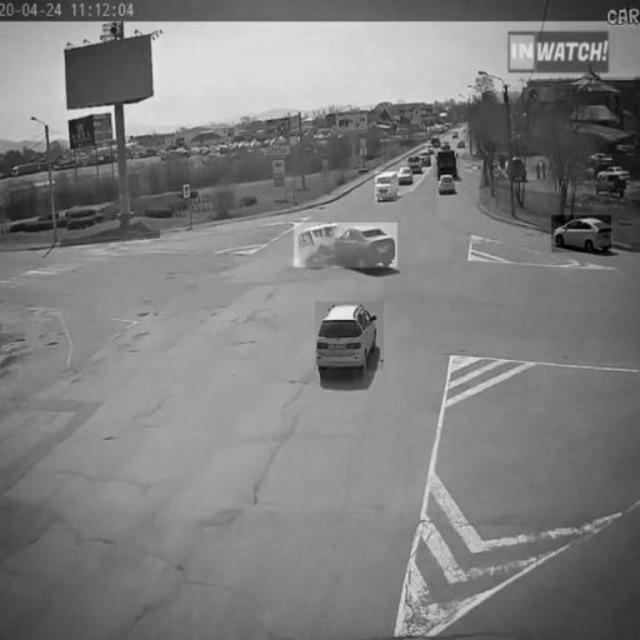accident: (294, 223, 397, 269)
vehicle: (315, 301, 383, 369), (551, 215, 611, 253), (434, 152, 460, 178), (375, 171, 399, 199)
